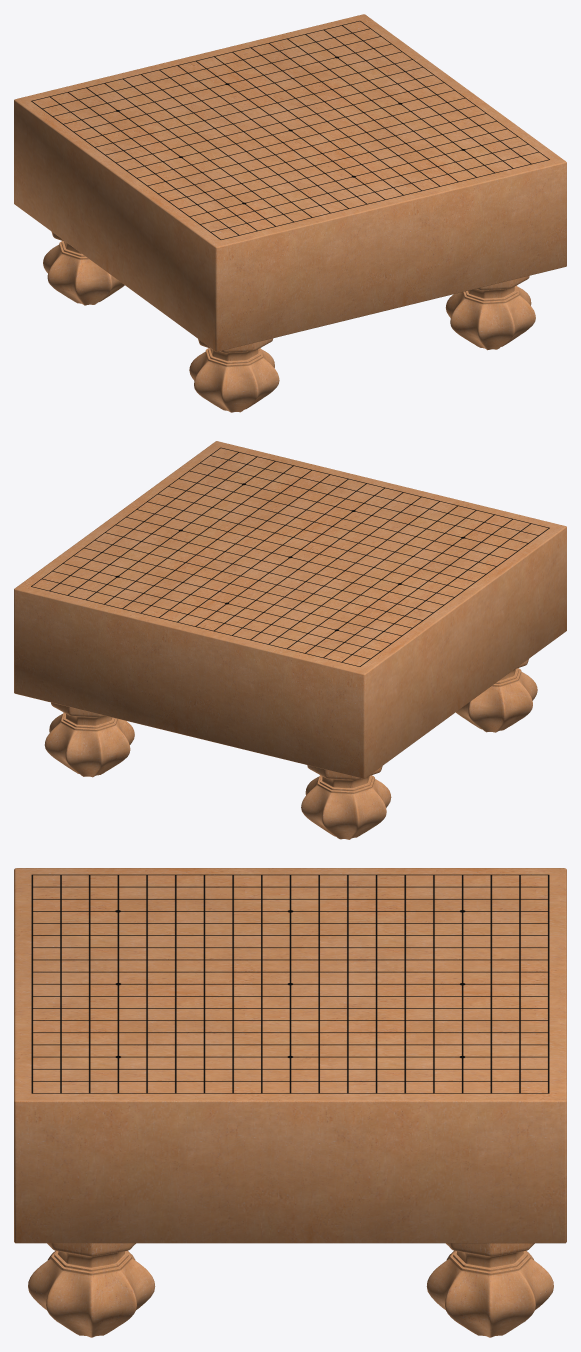
Rendered from goboard.draco.glb.
The picture shows the model from 3 angles, top to bottom: view 1: azimuth 30°, elevation 25°; view 2: azimuth 150°, elevation 25°; view 3: azimuth 270°, elevation 25°; orthographic projection. The views are drawn at different scales.
Parts seen in each view (by area): view 1: Board, Plane.001, Circle.002; view 2: Board, Plane.001, Circle.002; view 3: Board, Plane.001, Circle.002.
Part boxes in pixels (x1,y1,x2,y2): Board: [14, 14, 566, 351]; Plane.001: [31, 21, 549, 239]; Circle.002: [43, 231, 535, 412]; Board: [14, 441, 566, 778]; Plane.001: [31, 447, 549, 666]; Circle.002: [44, 659, 537, 839]; Board: [14, 868, 566, 1243]; Plane.001: [31, 874, 549, 1093]; Circle.002: [28, 1243, 553, 1337].
Size of the model in its own units: 0.5061 by 0.2644 by 0.5061.
2 materials, 2 textured.
